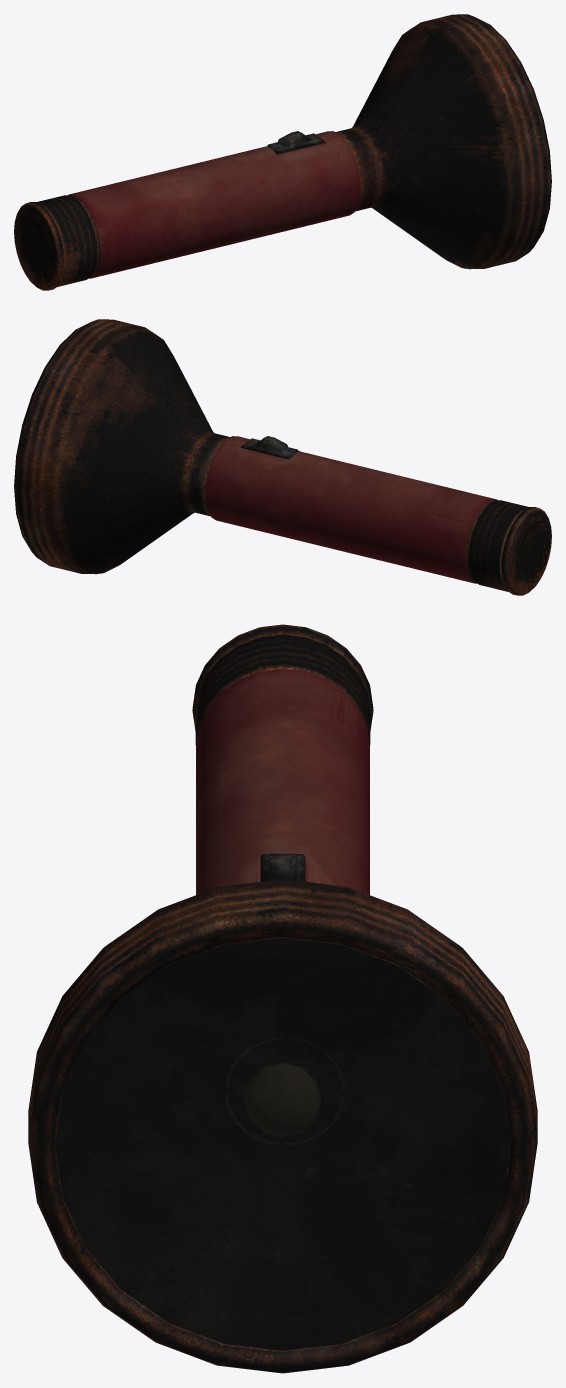
The model's file is retro_style_flashlight.glb.
3 renders of one model, top to bottom at view 1: azimuth 30°, elevation 25°; view 2: azimuth 150°, elevation 25°; view 3: azimuth 270°, elevation 25°, orthographic. The views are drawn at different scales.
Parts seen in each view (by area): view 1: Object_4; view 2: Object_4; view 3: Object_4, Object_3.
Boxes of the visible parts, x1,y1,x2,y2 form: Object_4: (14, 14, 551, 290); Object_4: (14, 319, 551, 595); Object_4: (28, 624, 537, 1373); Object_3: (55, 938, 510, 1350).
Bounding box in the file's own units: 23.42 × 11.36 × 11.36.
Materials: 2 (2 with a texture image).
